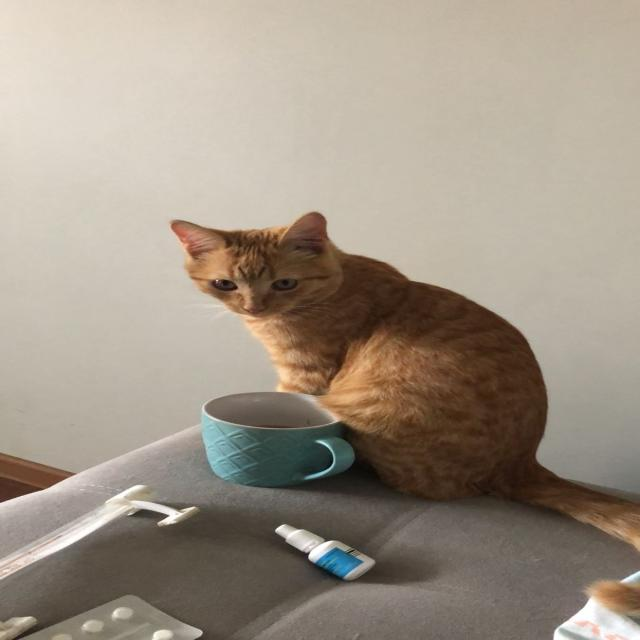sarman: (171, 212, 639, 550)
